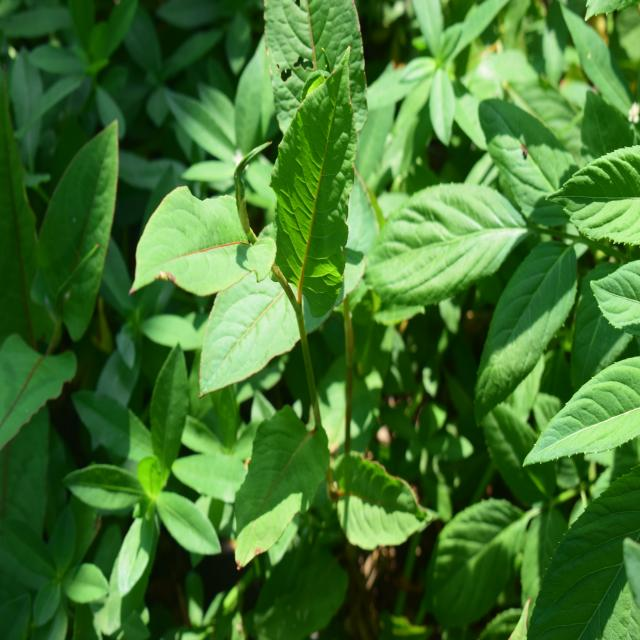Chinese_knotweed: (156, 34, 412, 555)
